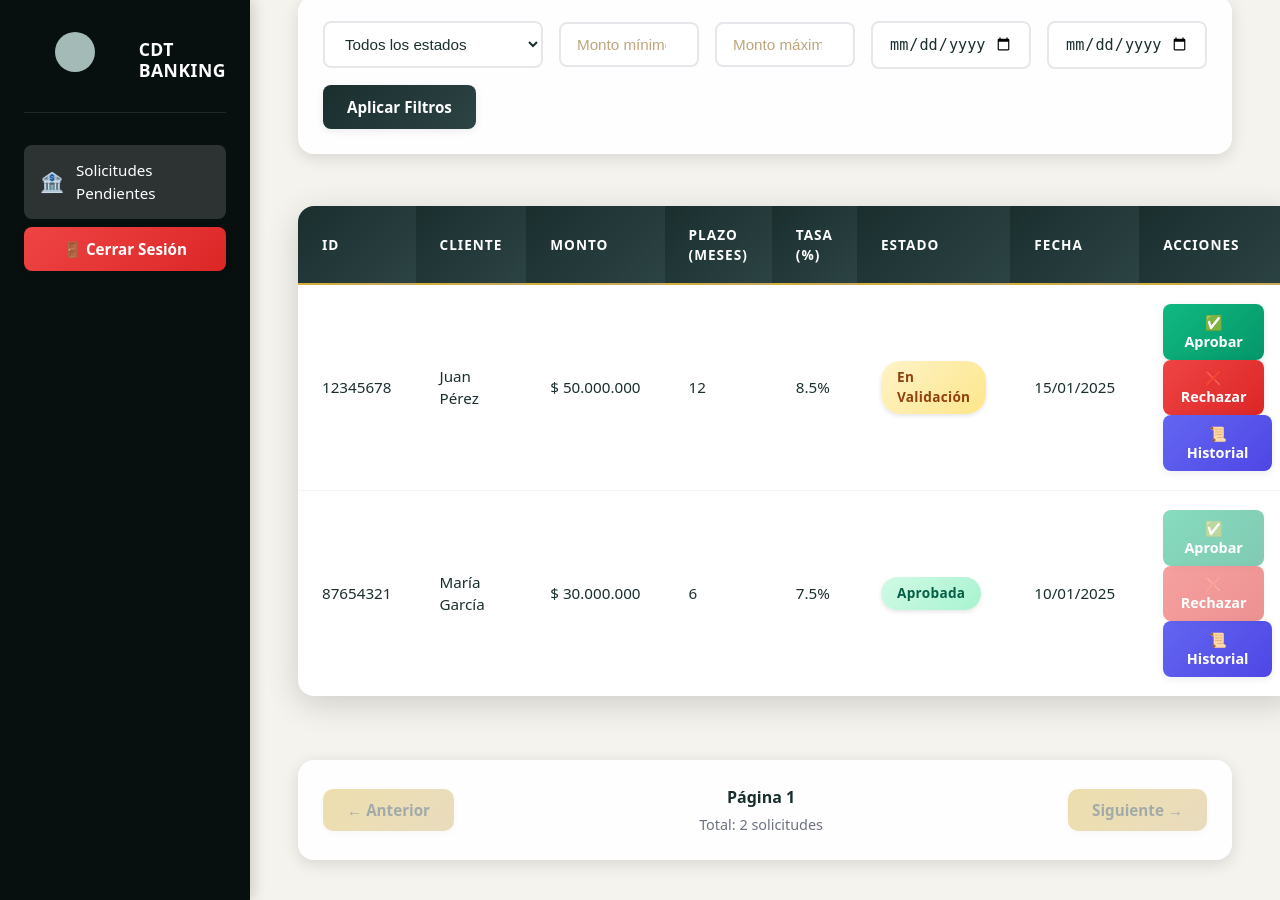
Test: AgenteDashboard Component › Ver historial › Debe mostrar mensaje cuando no hay historial
(page scrolled)
Expected: the text "María García" is shown, [416,491,526,696]
Click the button "📜 Historial" below "Aprobada" at (1218, 649), box [1163,621,1272,677]
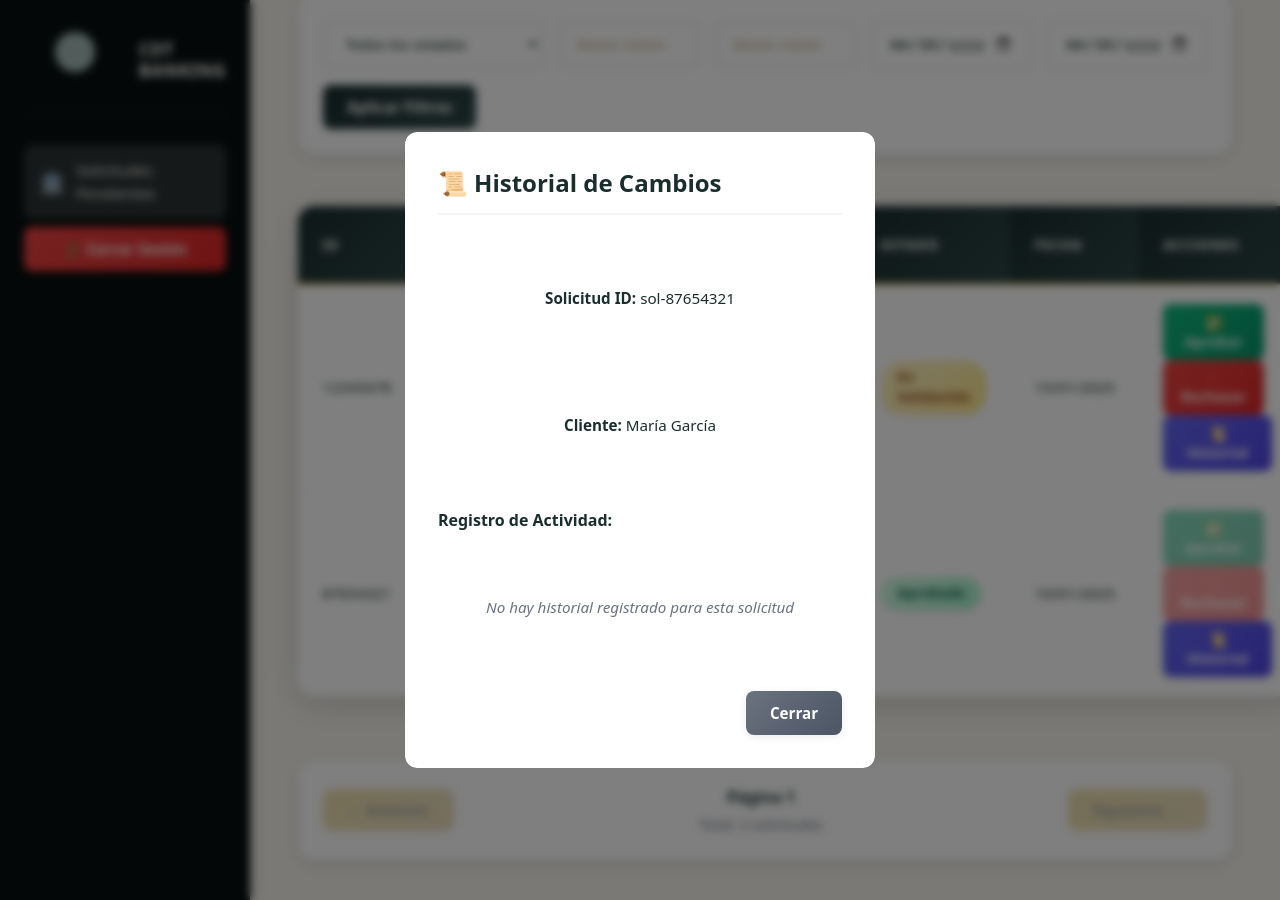
Result: the text "No hay historial registrado para esta solicitud" is shown at [486,597,794,617]
